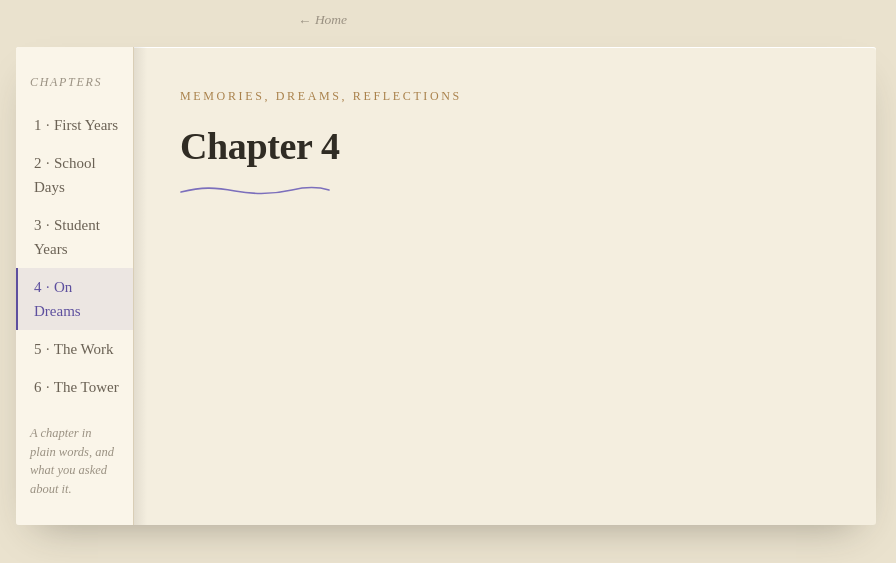
Test case: the chapter summary page › switches chapters when the rail is tapped
Click the button "6 · The Tower" at [74, 387], box top-left (16, 368), bottom-right (133, 406)
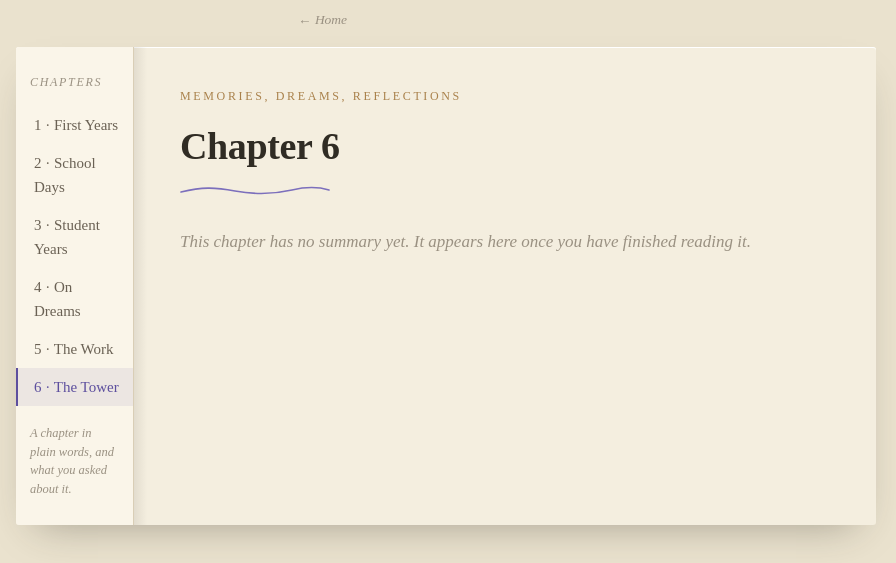
Check: the heading "Chapter 6" is shown, box top-left (180, 125), bottom-right (340, 167)
Check: the text "has no summary yet" is shown, box top-left (180, 232), bottom-right (751, 251)
